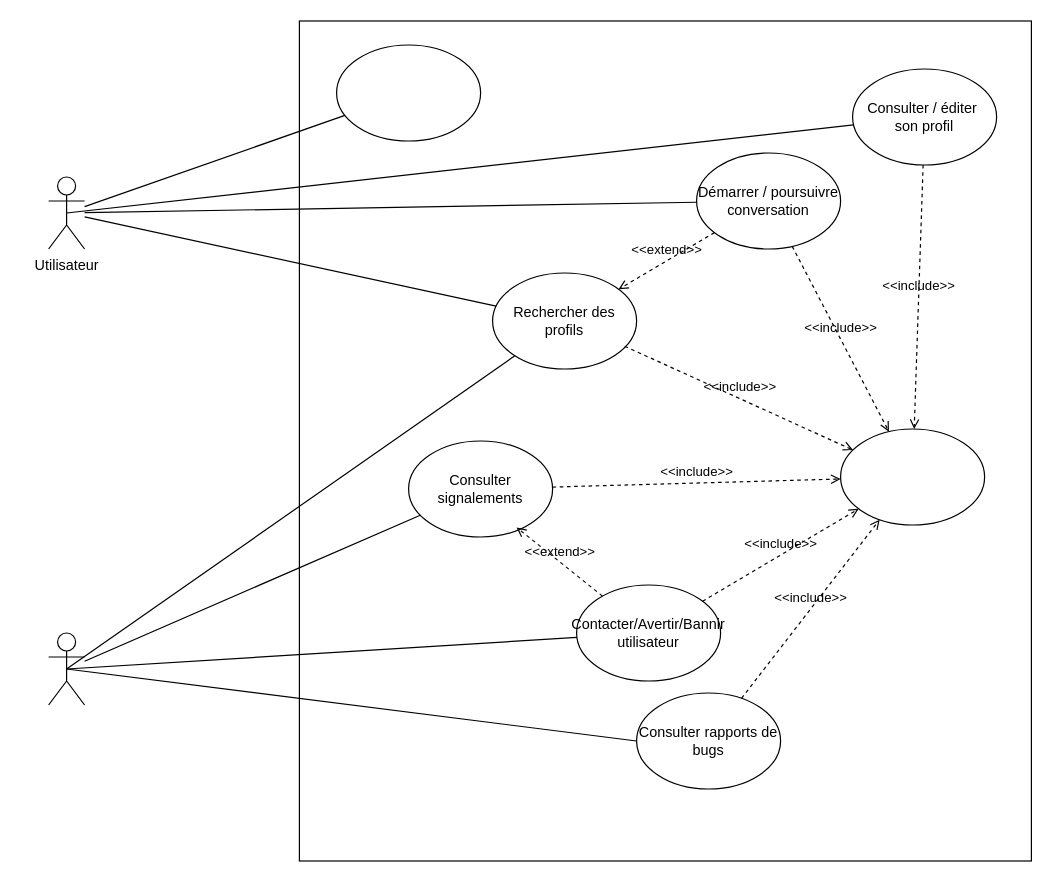
The diagram is 1052 pixels wide and 882 high, and some of its shapes have lost their labels. The shapes that lost their labels are listed below. From the top down, each one's centre as x and y in pixels, then its label:
the point at 408,92: S'inscrire
the point at 912,476: <<fragment>> Authentification
the point at 66,668: Administrateur
